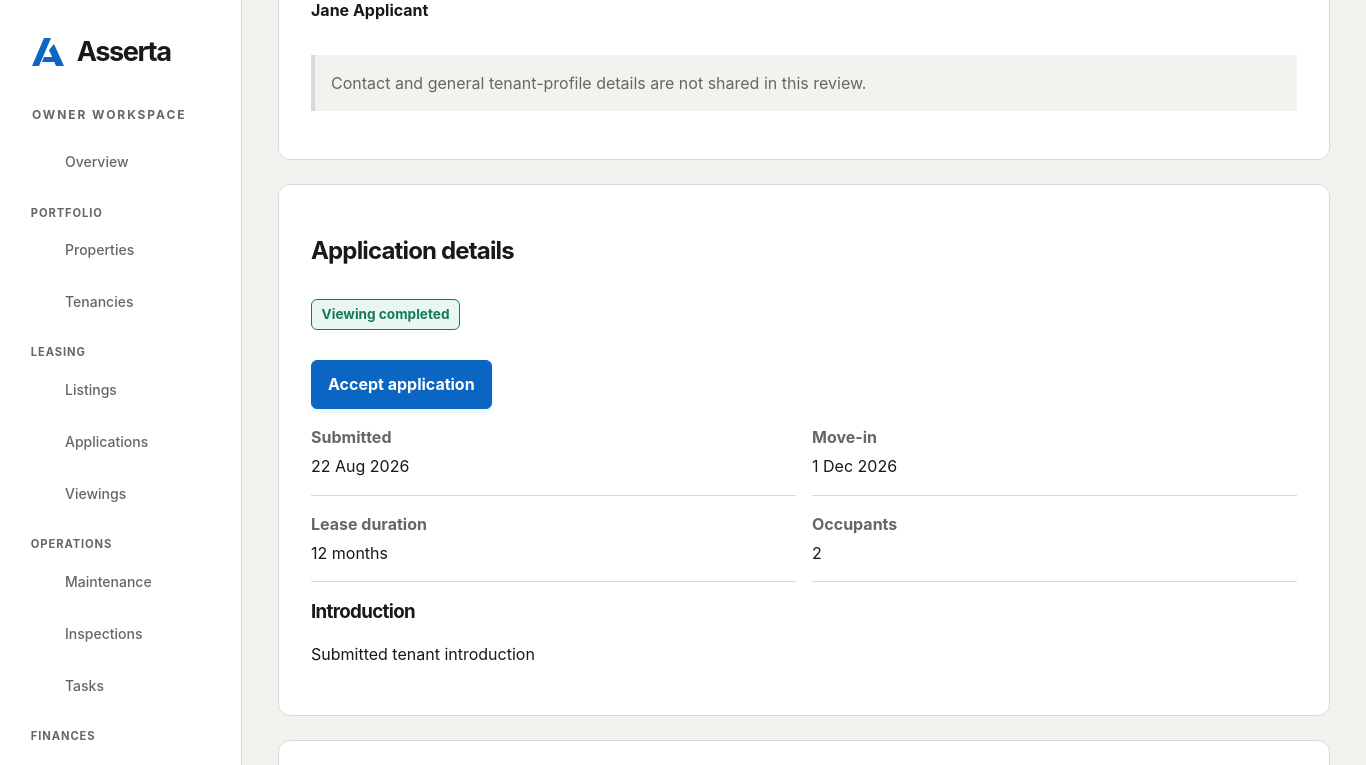
landlord application detail › accepts only a viewing-completed application after confirmation
The width and height of the screenshot is (1366, 765).
(page scrolled)
What coordinates should you click on to do the following:
click the button "Accept application"
I would click on:
 (401, 384)
Its box is [311, 360, 492, 409].
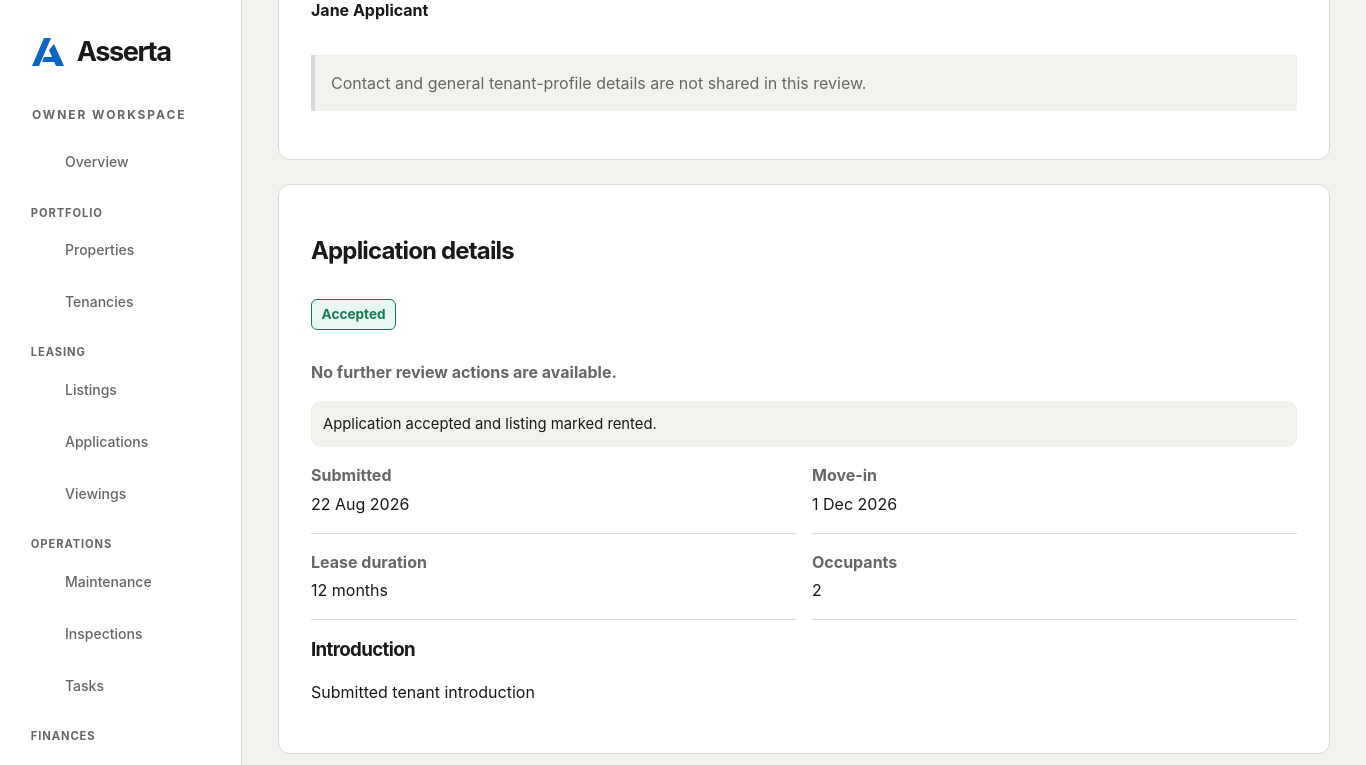
Expected: the text "Application accepted and listing marked rented." is shown, [311, 401, 1297, 447]
Expected: the text "No further review actions are available." is shown, [311, 362, 617, 382]
